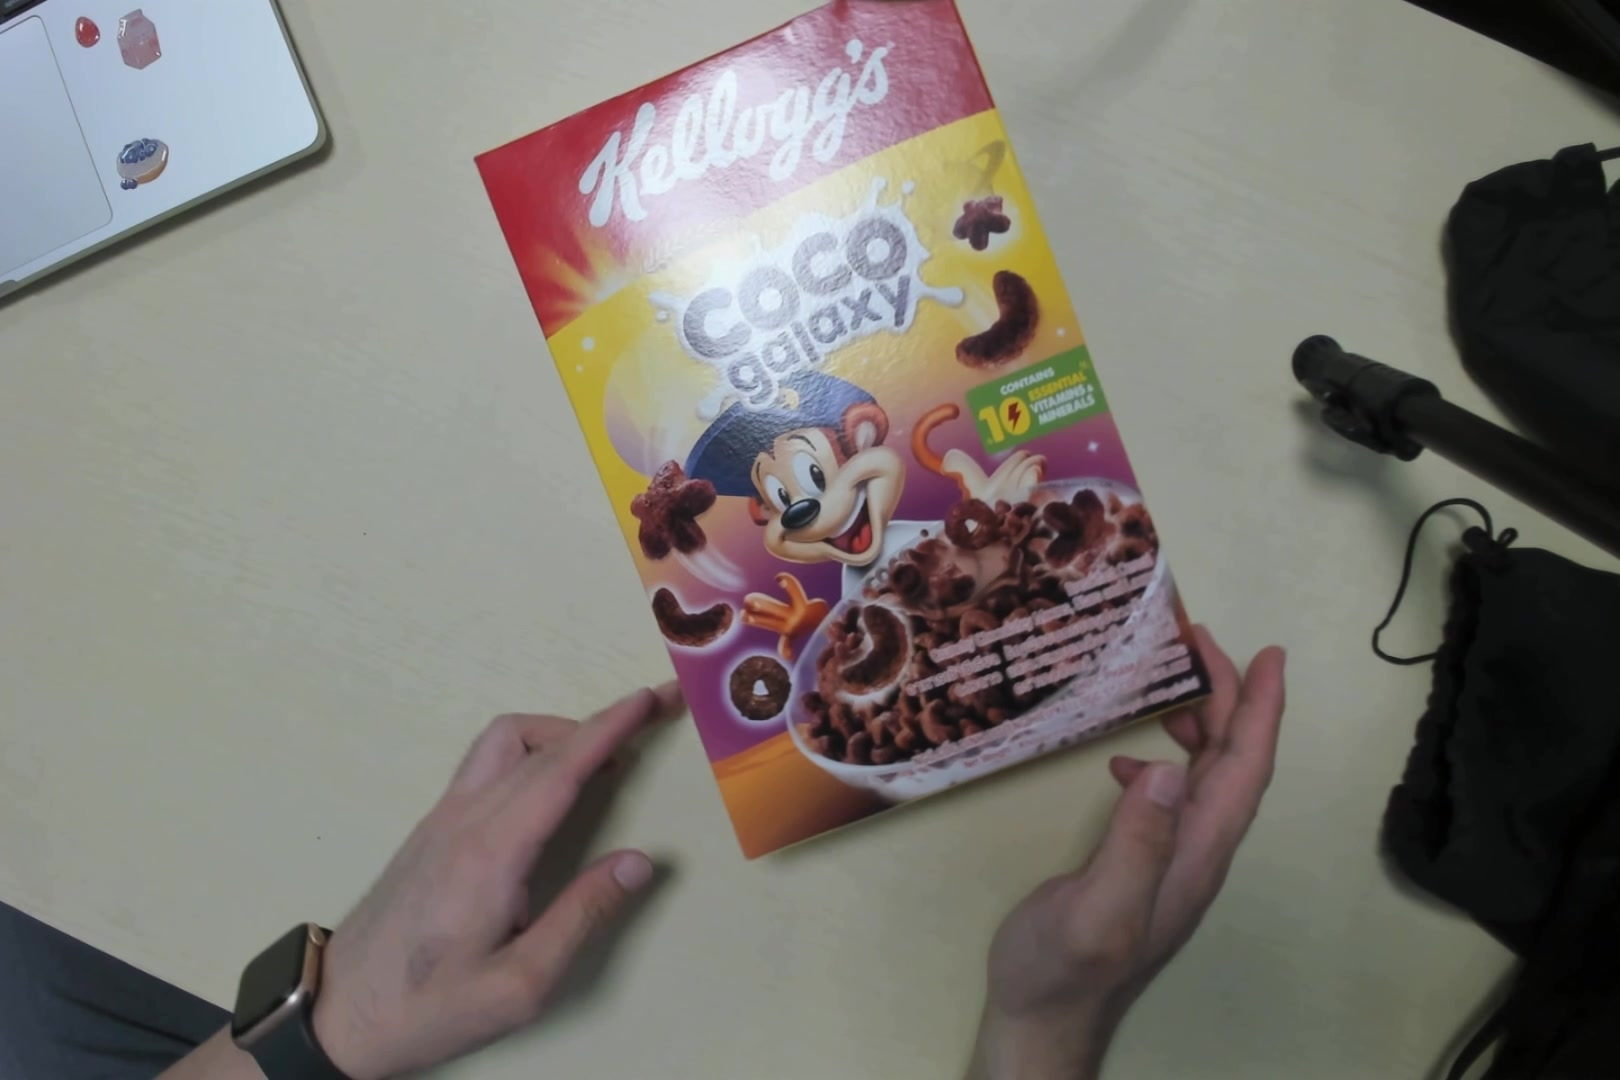BreakfastCereals_300-399g_Halal_NonHealthy: (454, 4, 1216, 865)
